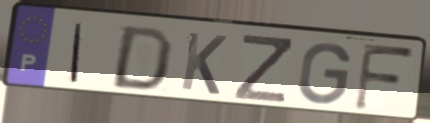D: (107, 24, 177, 93)
F: (351, 41, 418, 114)
G: (296, 40, 354, 107)
I: (67, 20, 87, 85)
K: (178, 29, 230, 98)
Z: (231, 32, 294, 105)
